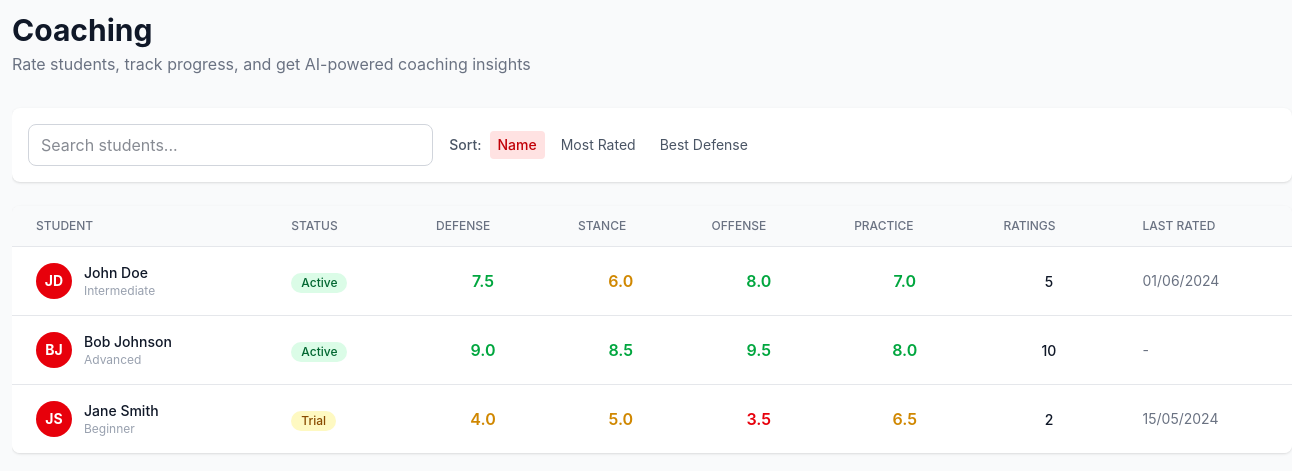
Test: Coaching Page › search filters by last name
Expected: the text "John Doe" is shown, [84,263,155,283]
Step 1. Type "Johnson" into the field with placeholder "Search students..." → x=231, y=145, box [28,124,433,166]
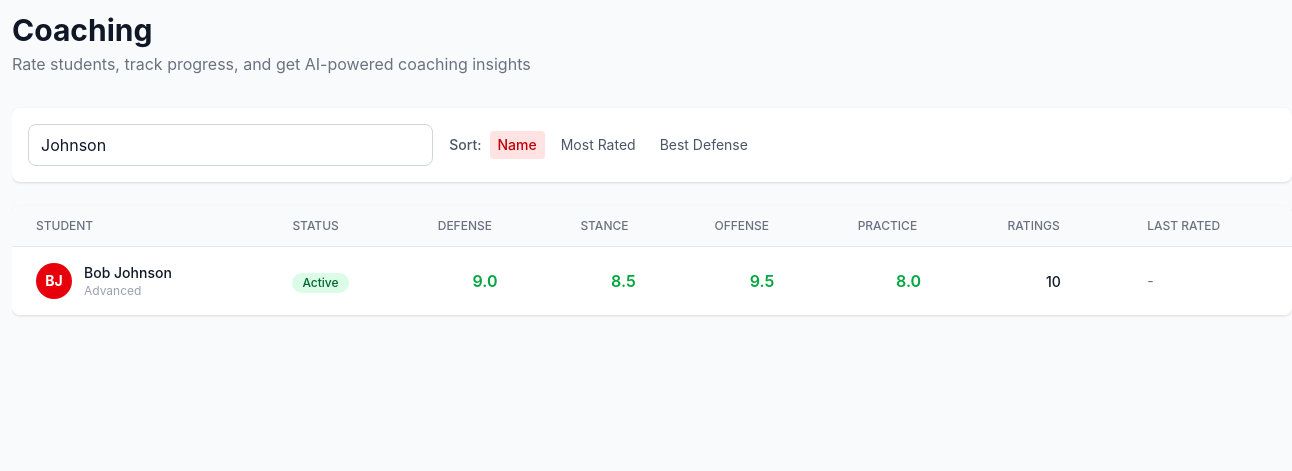
Expected: the text "Bob Johnson" is shown, [84,263,172,283]
Expected: the text "John Doe" is gone
